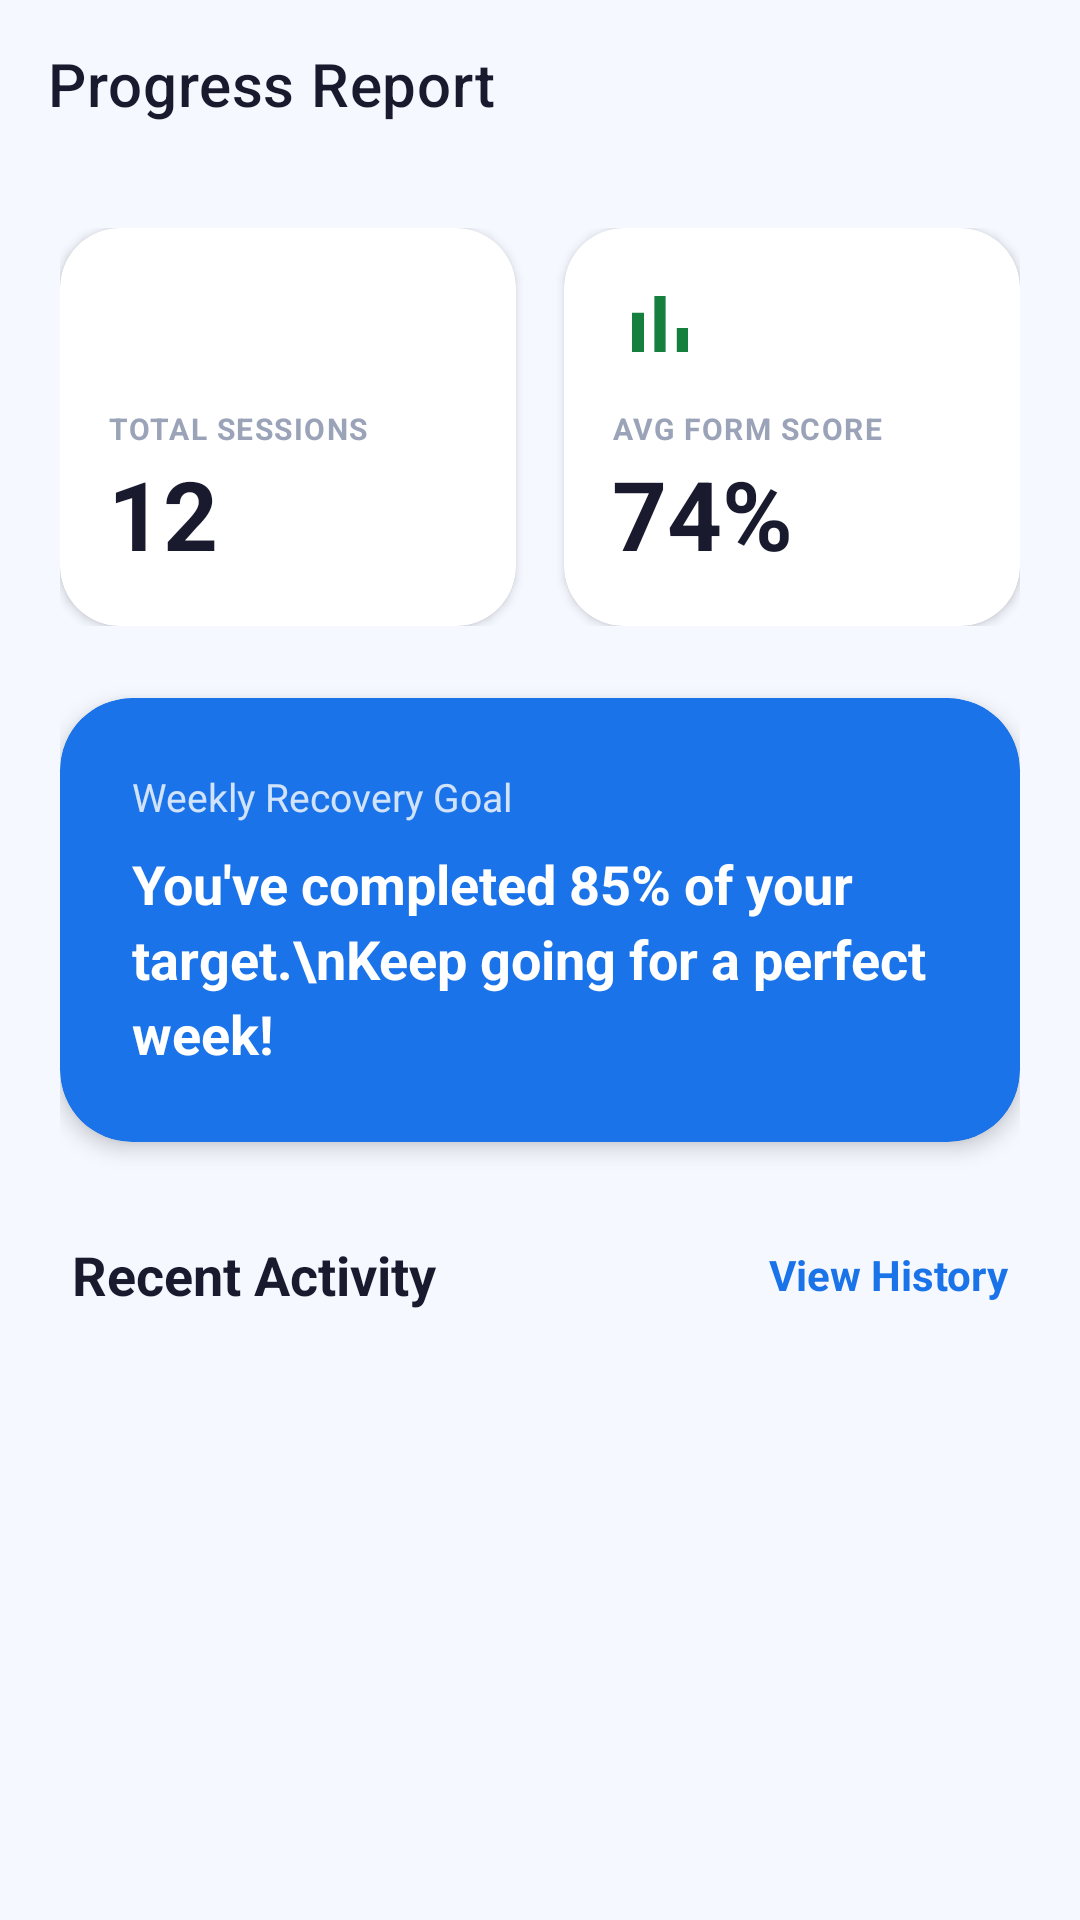

Point at icon controls on the screen. Image size 1080*1920, points as (x,y).
chart: (660,324)
